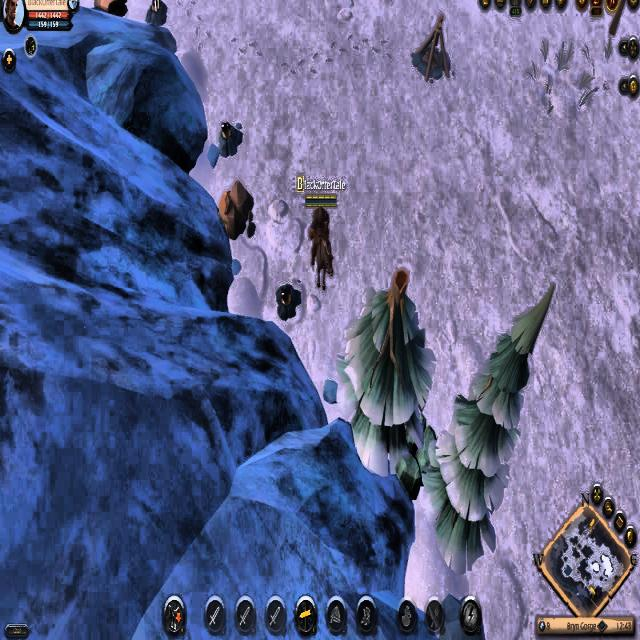copperore: (272, 282, 302, 318), (216, 116, 243, 154), (140, 0, 170, 23)
limestone: (217, 173, 258, 243), (94, 0, 129, 20)
